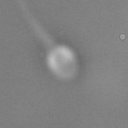normal: (15, 1, 54, 48)
